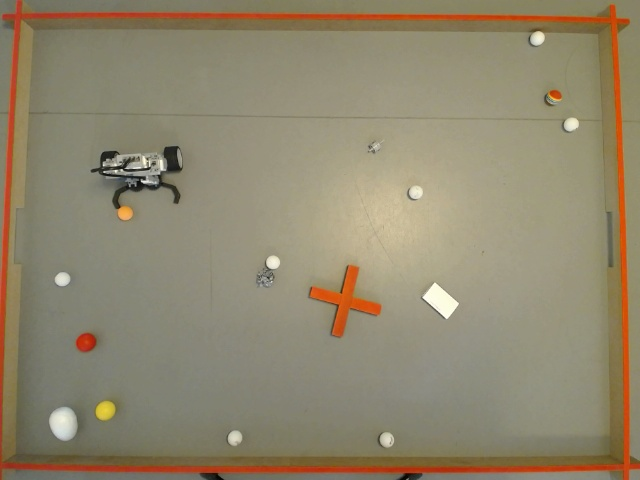big_goal: (14, 207, 22, 263), (604, 212, 612, 266)
cross: (310, 261, 380, 336)
egg: (50, 405, 76, 440)
orange: (116, 207, 132, 219)
robot: (90, 146, 182, 209)
wall: (16, 29, 608, 453)
white: (55, 270, 70, 285), (378, 432, 394, 446), (228, 431, 242, 444), (564, 117, 578, 129), (531, 30, 544, 42), (266, 255, 278, 267), (410, 186, 421, 198)
